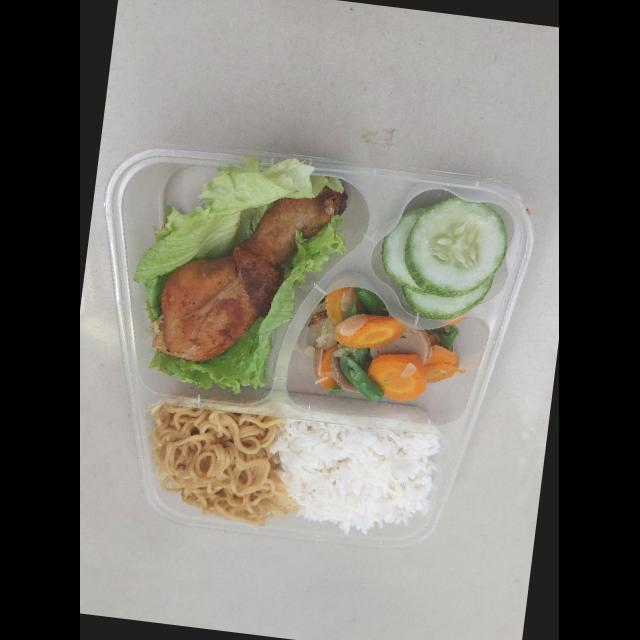bento: (101, 126, 558, 567)
